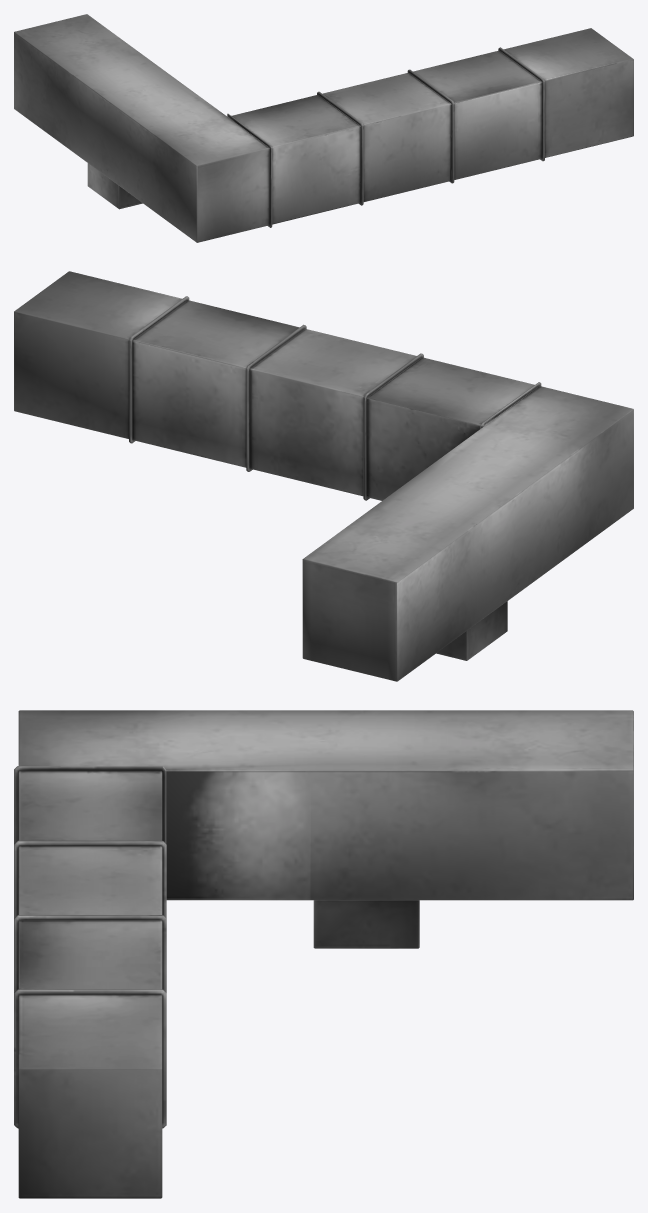
Rendered from condotto.glb.
The picture shows the model from 3 angles, top to bottom: view 1: azimuth 30°, elevation 25°; view 2: azimuth 150°, elevation 25°; view 3: azimuth 270°, elevation 25°; orthographic projection. The views are drawn at different scales.
Parts seen in each view (by area): view 1: TF2_FS_Vents; view 2: TF2_FS_Vents; view 3: TF2_FS_Vents.
Part boxes in pixels (x1,y1,x2,y2): TF2_FS_Vents: (14,14,633,242); TF2_FS_Vents: (14,271,633,681); TF2_FS_Vents: (14,710,633,1198).
Bounding box in the file's own units: 653 × 161 × 477.
Materials: 1 (1 with a texture image).
